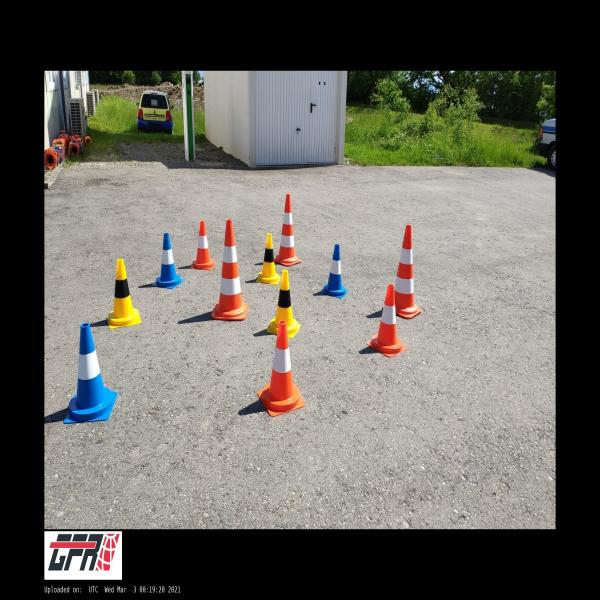blue_cone: (64, 323, 118, 424), (152, 232, 184, 288), (320, 244, 348, 298)
large_orange_cone: (211, 219, 248, 320), (395, 225, 422, 319), (272, 195, 301, 266)
orange_cone: (257, 320, 305, 416), (366, 284, 408, 358), (190, 222, 215, 270)
yellow_cone: (266, 270, 301, 338), (108, 258, 142, 328), (256, 234, 281, 284)
